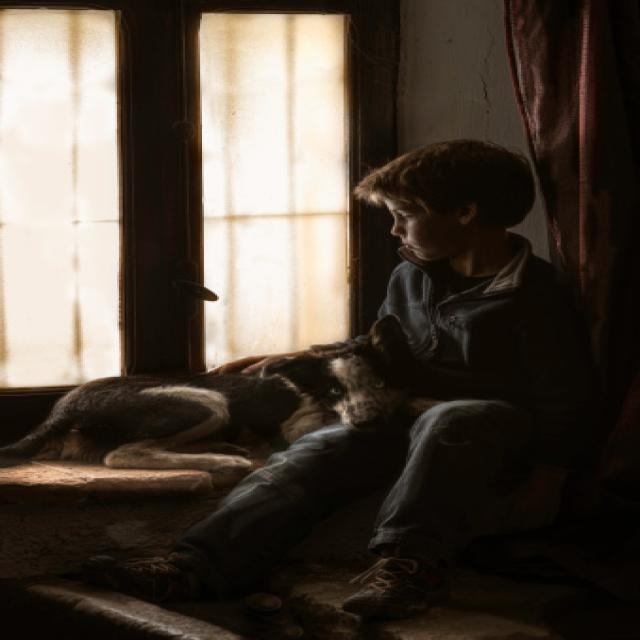Dog: (37, 342, 400, 475)
